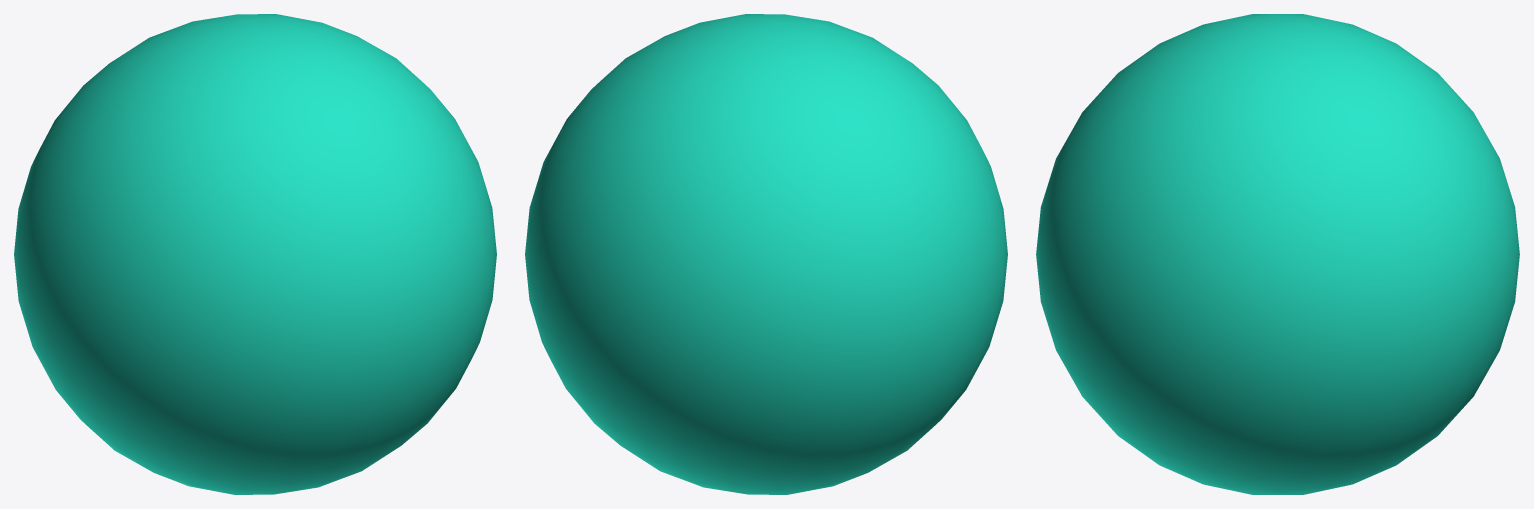
The picture shows the model from 3 angles, left to right: view 1: azimuth 30°, elevation 25°; view 2: azimuth 150°, elevation 25°; view 3: azimuth 270°, elevation 25°; orthographic projection.
Visible parts, largest first — view 1: GeoSphere001; view 2: GeoSphere001; view 3: GeoSphere001.
Boxes of the visible parts, <box> form: GeoSphere001: <box>14,14,496,494</box>; GeoSphere001: <box>525,14,1007,494</box>; GeoSphere001: <box>1036,14,1519,494</box>.
Bounding box in the file's own units: 1.4 × 1.41 × 1.41.
Materials: 1 (1 with a texture image).
